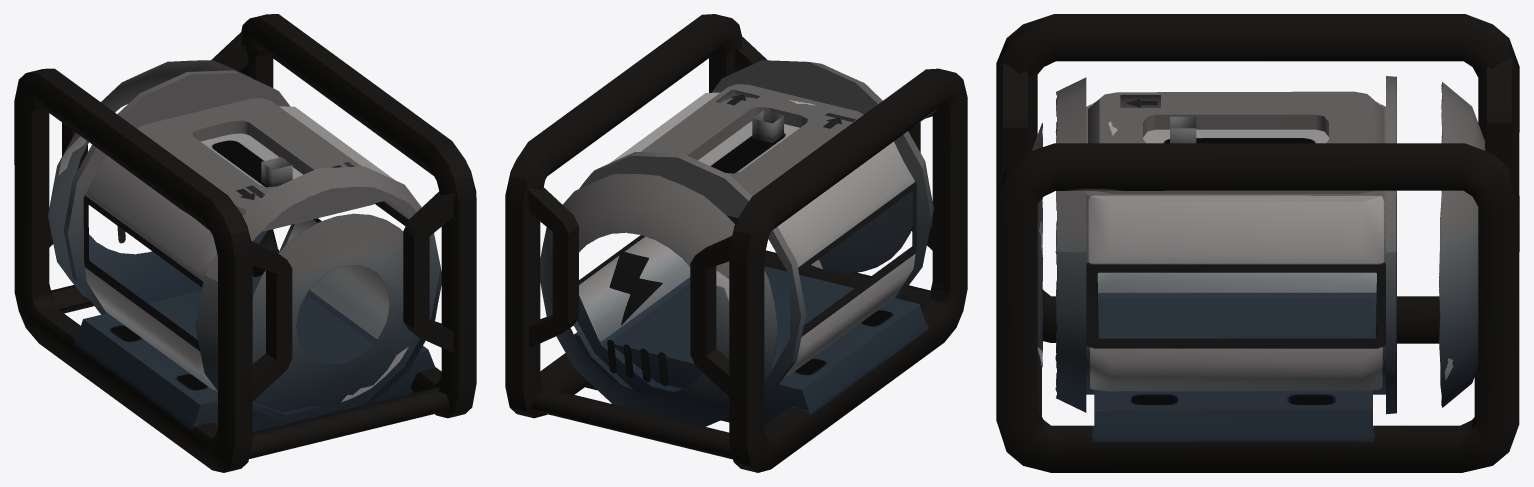
The model's file is obj_interactive_electricengine_02_on.fbx.
3 renders of one model, left to right at view 1: azimuth 30°, elevation 25°; view 2: azimuth 150°, elevation 25°; view 3: azimuth 270°, elevation 25°, orthographic. The views are drawn at different scales.
Parts seen in each view (by area): view 1: obj_interactive_electricengine_02_on; view 2: obj_interactive_electricengine_02_on; view 3: obj_interactive_electricengine_02_on.
Boxes of the visible parts, x1=… form: obj_interactive_electricengine_02_on: x1=14, y1=14, x2=476, y2=472; obj_interactive_electricengine_02_on: x1=505, y1=14, x2=967, y2=472; obj_interactive_electricengine_02_on: x1=996, y1=14, x2=1519, y2=472.
Bounding box in the file's own units: 2.05 × 2.04 × 3.03.
